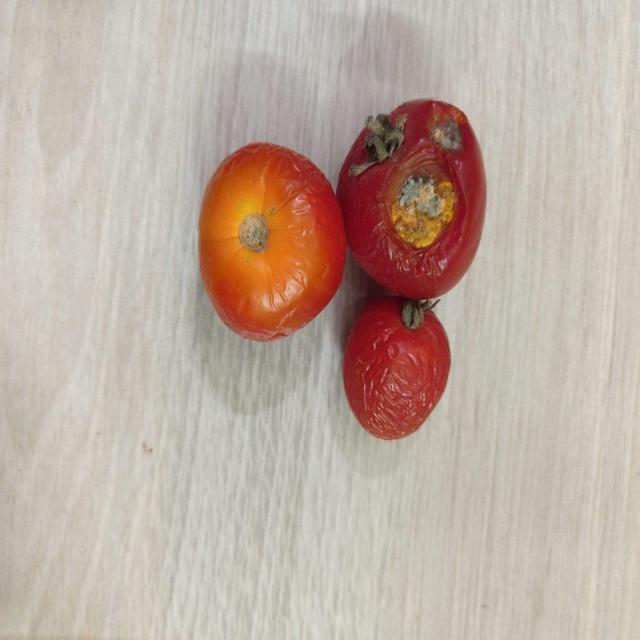Rotten: (339, 98, 487, 298)
overripe: (196, 142, 349, 343)
